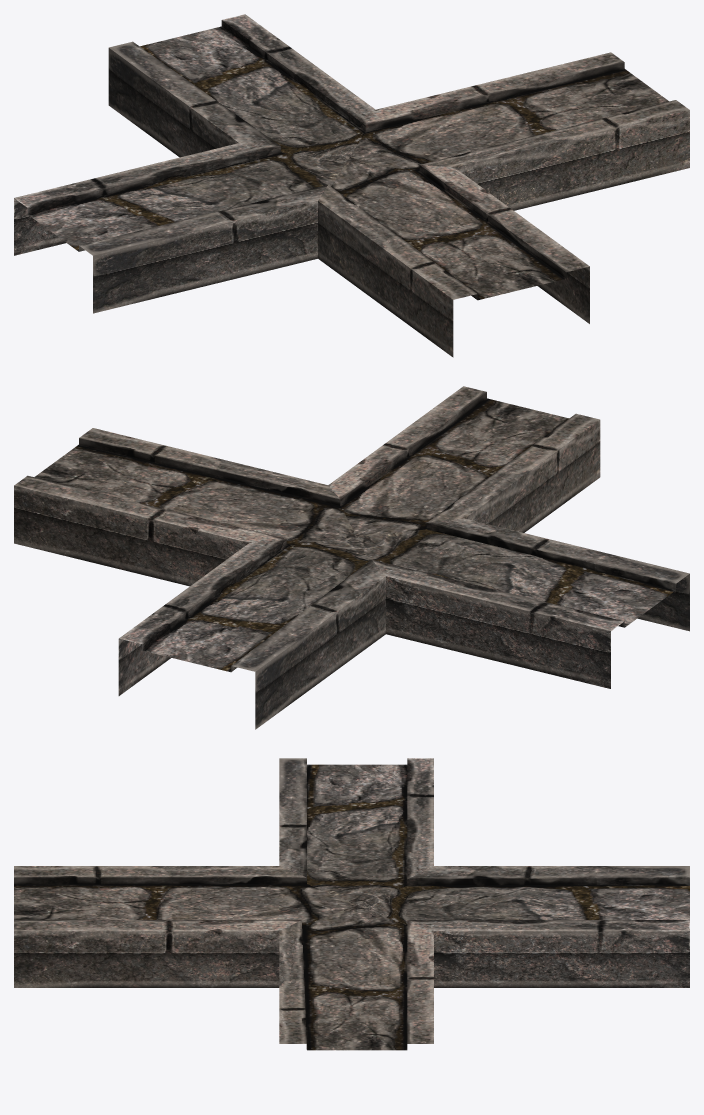
The model's file is dun_stone_bar04.FBX.
The picture shows the model from 3 angles, top to bottom: view 1: azimuth 30°, elevation 25°; view 2: azimuth 150°, elevation 25°; view 3: azimuth 270°, elevation 25°; orthographic projection.
Visible parts, largest first — view 1: dun_stone_bar04; view 2: dun_stone_bar04; view 3: dun_stone_bar04.
Part boxes in pixels (box(x1,y1,x2,y2)): dun_stone_bar04: box(14, 14, 689, 357); dun_stone_bar04: box(14, 386, 689, 729); dun_stone_bar04: box(14, 758, 689, 1050).
Bounding box in the file's own units: 297 × 27.53 × 297.
